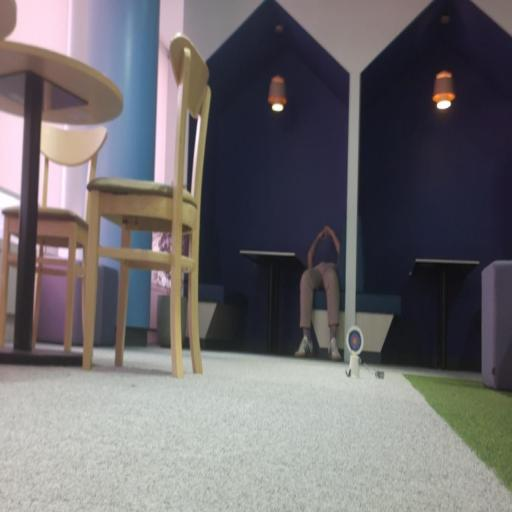target: (346, 326, 363, 357)
